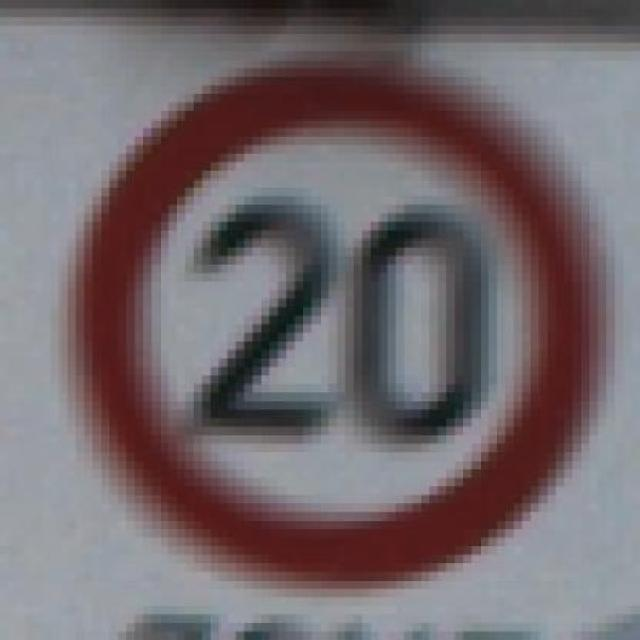forb_speed_over_20: (85, 70, 580, 579)
